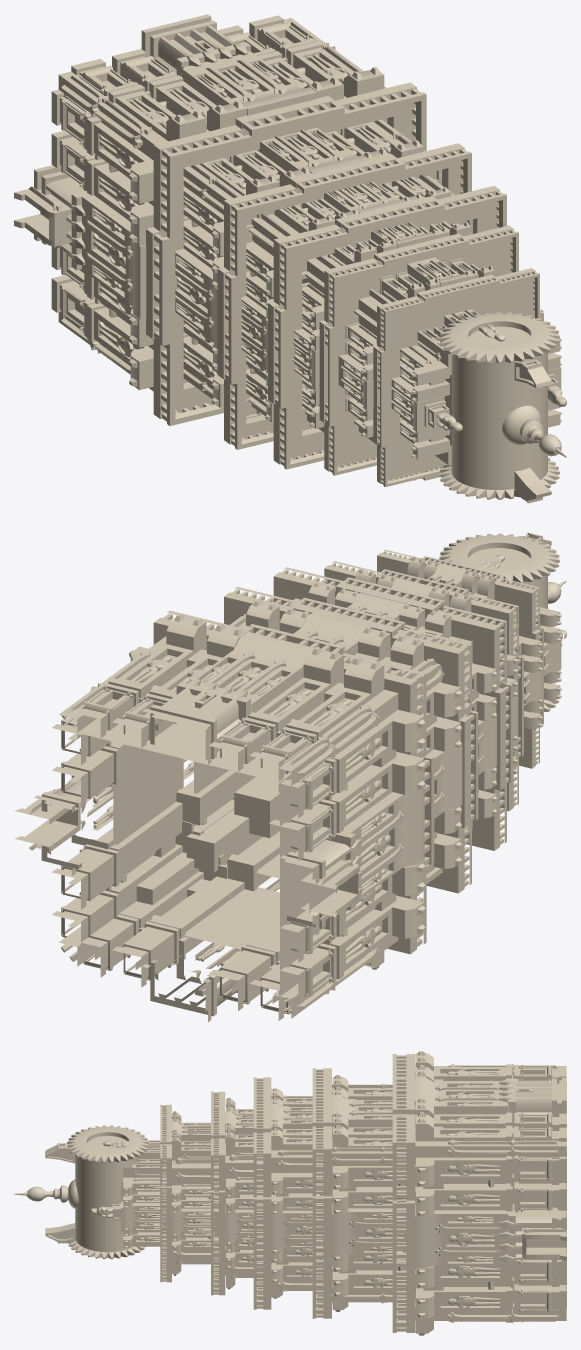
File: temple.glb
3 renders of one model, top to bottom at view 1: azimuth 30°, elevation 25°; view 2: azimuth 150°, elevation 25°; view 3: azimuth 270°, elevation 25°, orthographic. The views are drawn at different scales.
Parts seen in each view (by area): view 1: IndianTemple_TallShikhara; view 2: IndianTemple_TallShikhara; view 3: IndianTemple_TallShikhara.
Part boxes in pixels (box(x1,y1,x2,y2)): IndianTemple_TallShikhara: box(14, 14, 566, 503); IndianTemple_TallShikhara: box(14, 532, 566, 1022); IndianTemple_TallShikhara: box(14, 1051, 566, 1335).
Bounding box in the file's own units: 15.41 × 14 × 32.47.
